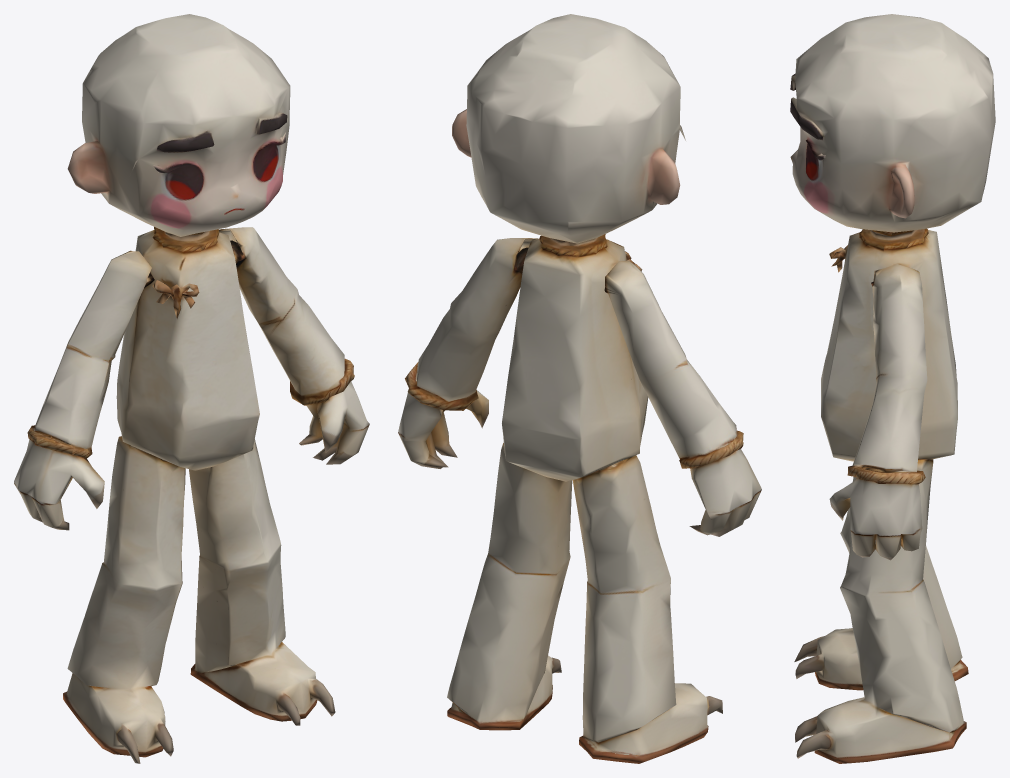
File: paper.glb
The picture shows the model from 3 angles, left to right: view 1: azimuth 30°, elevation 25°; view 2: azimuth 150°, elevation 25°; view 3: azimuth 270°, elevation 25°; orthographic projection. The views are drawn at different scales.
Parts seen in each view (by area): view 1: tripo_node_eb9690ad-346b-471d-8cce-f62becf71ffc; view 2: tripo_node_eb9690ad-346b-471d-8cce-f62becf71ffc; view 3: tripo_node_eb9690ad-346b-471d-8cce-f62becf71ffc.
Part boxes in pixels (box(x1,y1,x2,y2)): tripo_node_eb9690ad-346b-471d-8cce-f62becf71ffc: box(14, 14, 369, 763); tripo_node_eb9690ad-346b-471d-8cce-f62becf71ffc: box(398, 14, 761, 763); tripo_node_eb9690ad-346b-471d-8cce-f62becf71ffc: box(790, 14, 995, 763).
Size of the model in its own units: 0.5258 by 1 by 0.273.
1 material, 1 textured.
